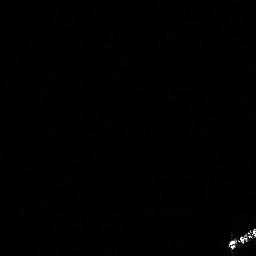ship: (224, 227, 256, 256)
